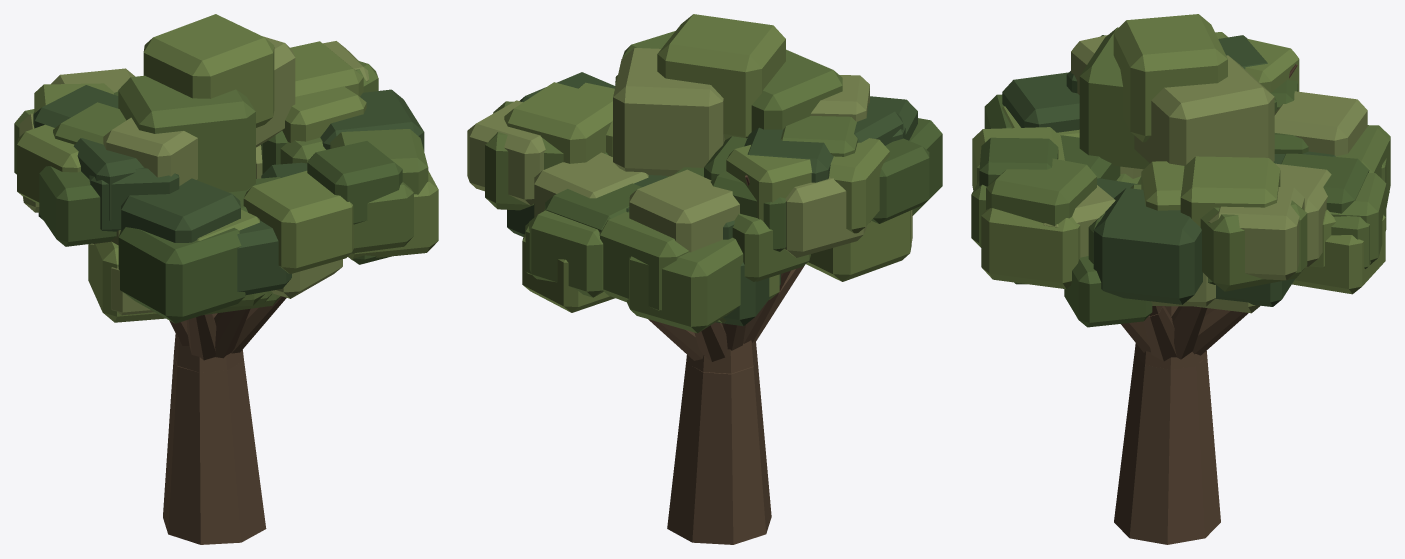
Rendered from oak_ancient_spring_2.glb.
3 renders of one model, left to right at view 1: azimuth 30°, elevation 25°; view 2: azimuth 150°, elevation 25°; view 3: azimuth 270°, elevation 25°, orthographic.
Visible parts, largest first — view 1: oak_ancient_spring_2; view 2: oak_ancient_spring_2; view 3: oak_ancient_spring_2.
Part boxes in pixels (bbox=[...]): oak_ancient_spring_2: bbox=[14, 14, 438, 544]; oak_ancient_spring_2: bbox=[467, 14, 942, 544]; oak_ancient_spring_2: bbox=[971, 14, 1390, 544].
Bounding box in the file's own units: 19.57 × 24 × 18.77.
